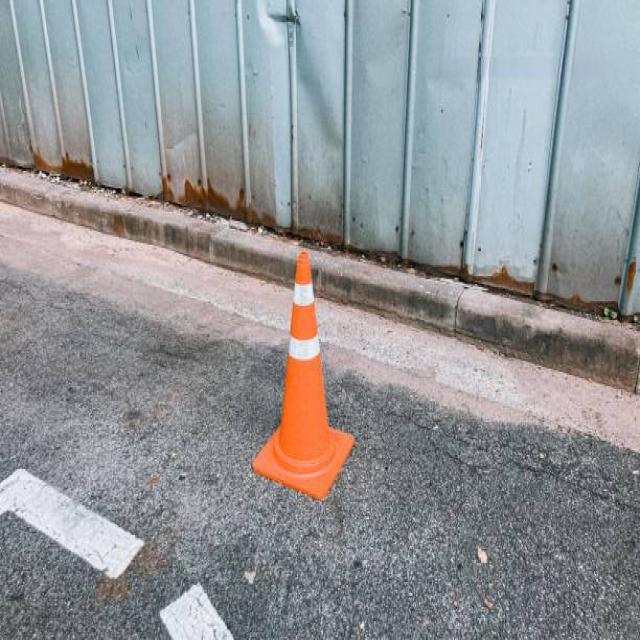Traffic Cone: (230, 244, 377, 512)
